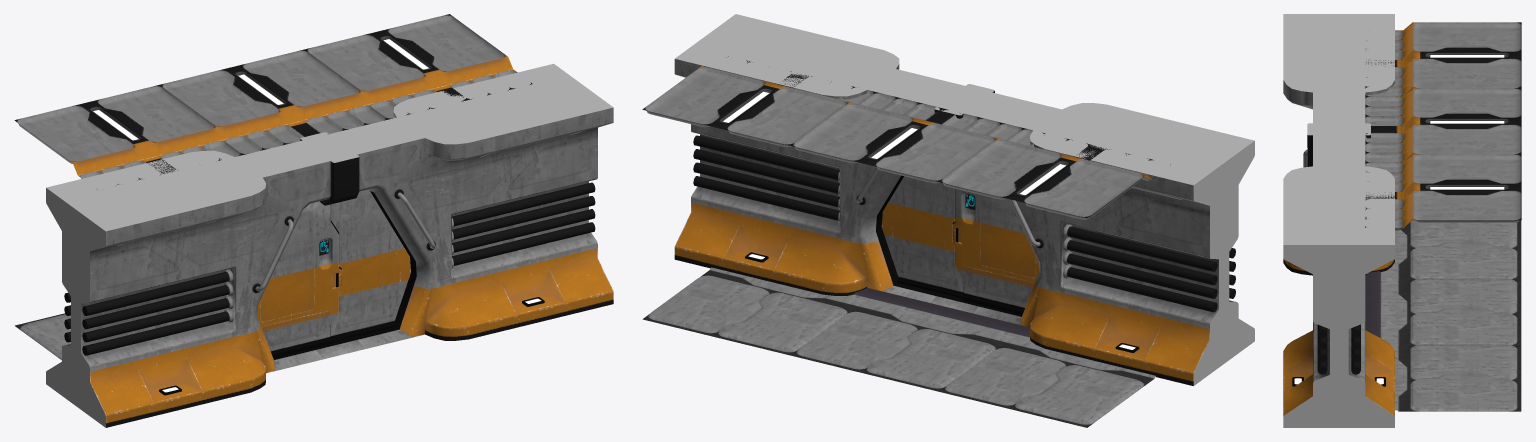
The picture shows the model from 3 angles, left to right: view 1: azimuth 30°, elevation 25°; view 2: azimuth 150°, elevation 25°; view 3: azimuth 270°, elevation 25°; orthographic projection. The views are drawn at different scales.
Parts seen in each view (by area): view 1: Object_4, Object_6, Object_3; view 2: Object_4, Object_3, Object_6; view 3: Object_4, Object_6, Object_3, Object_5.
Part boxes in pixels (x1,y1,x2,y2): Object_4: (46,63,613,427); Object_6: (14,14,532,184); Object_3: (15,313,70,360); Object_4: (674,14,1254,385); Object_3: (642,267,1155,427); Object_6: (642,56,1170,219); Object_4: (1283,14,1394,427); Object_6: (1365,22,1521,230); Object_3: (1365,220,1521,411); Object_5: (1317,329,1385,386).
Bounding box in the file's own units: 875 × 338 × 381.
3 materials, 3 textured.
